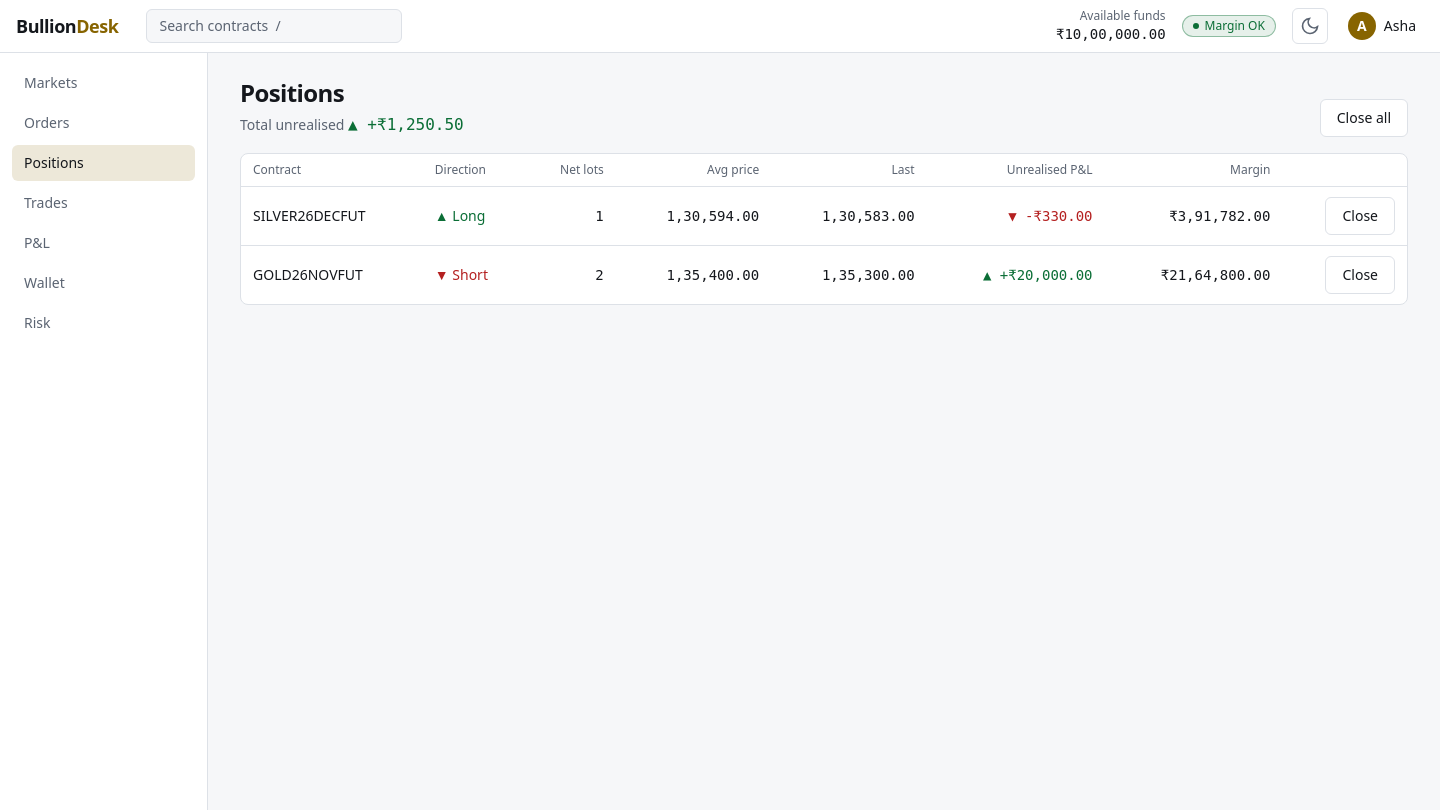
Scenario: positions page › closes all positions with one request
Click the button "Close all" at (1364, 118), box [1320, 99, 1408, 137]
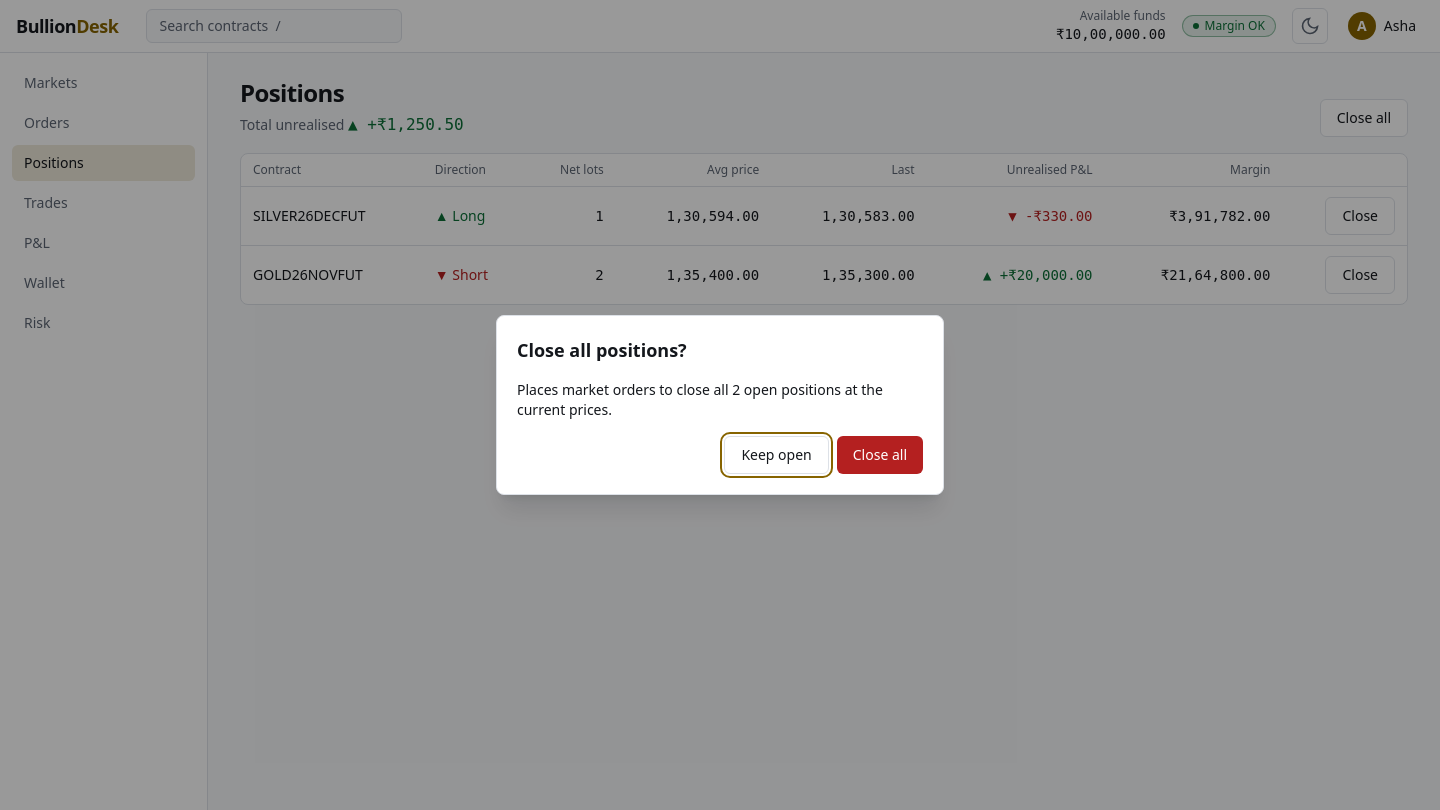
Now the dialog "Close all positions?" shows "close all 2 open positions", box [517, 380, 883, 419]
Click the button "Close all" at (880, 455), box [837, 436, 923, 474]
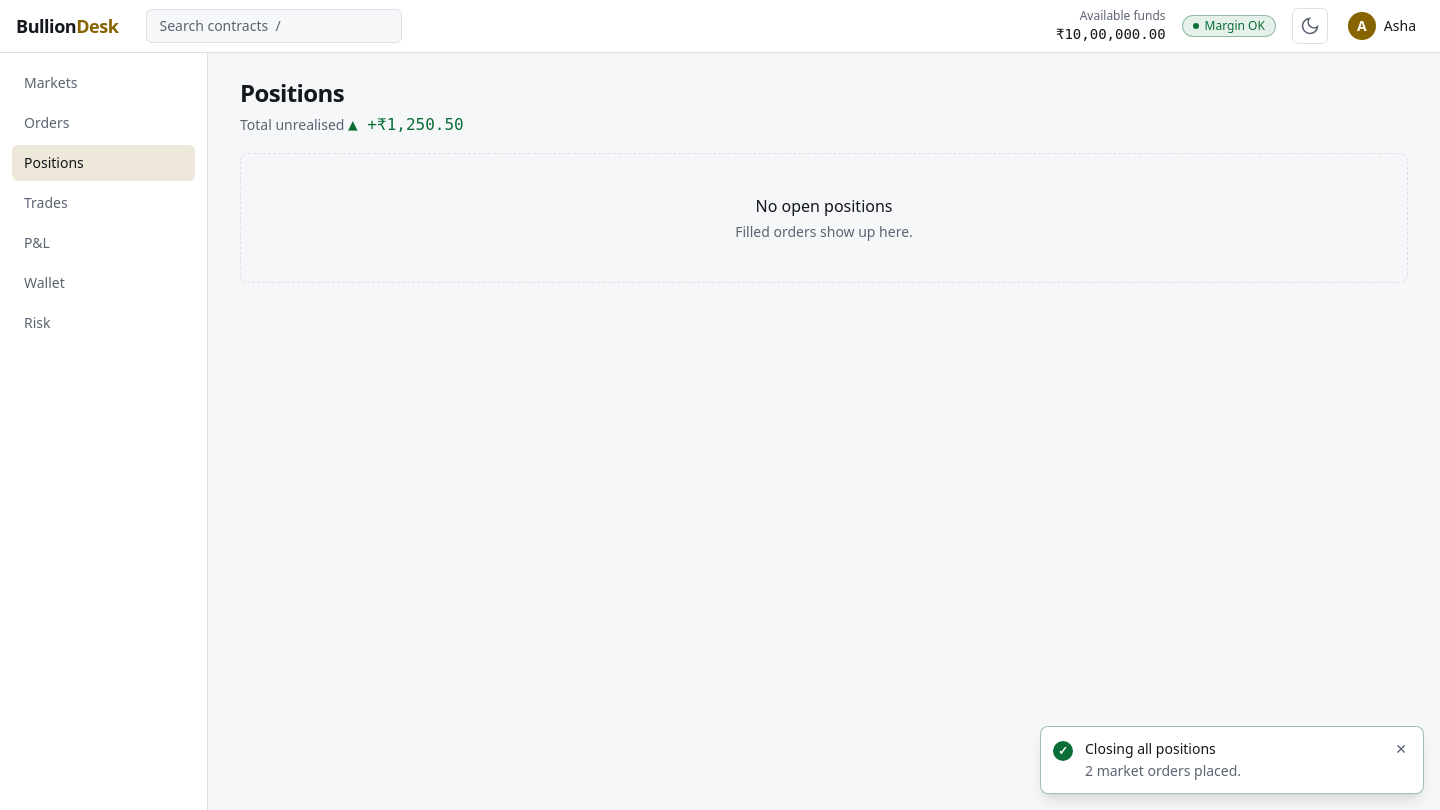
Now the text "No open positions" is shown, box [756, 195, 892, 217]
